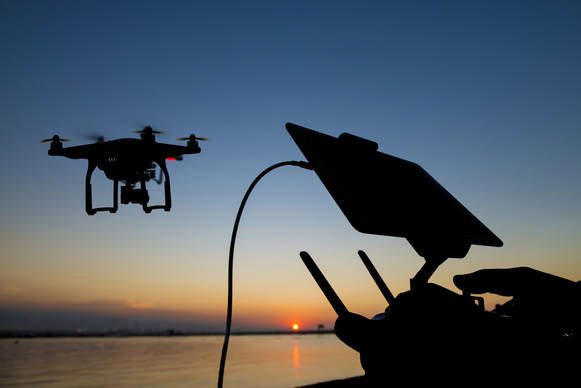drone: (38, 121, 213, 221)
